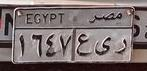1: (20, 33, 24, 56)
4: (44, 32, 57, 58)
6: (31, 33, 43, 57)
7: (59, 33, 72, 57)
ain: (75, 34, 91, 56)
raa: (115, 37, 129, 55)
yaa: (93, 36, 112, 57)
